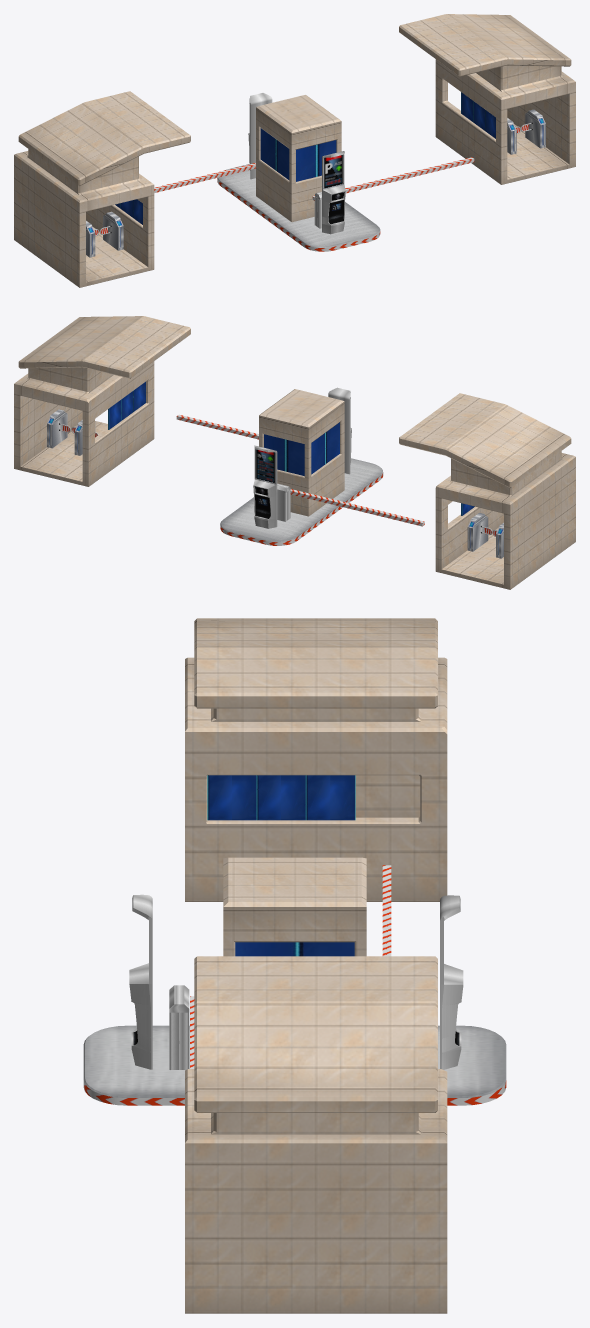
The model's file is barrier.obj.
3 views of the same model, one above another, from view 1: azimuth 30°, elevation 25°; view 2: azimuth 150°, elevation 25°; view 3: azimuth 270°, elevation 25° (orthographic). The views are drawn at different scales.
Parts seen in each view (by area): view 1: barrier_gate_in_3, barrier_gate_out_3, didaoczf002, waidq002; view 2: barrier_gate_in_3, barrier_gate_out_3, didaoczf002, waidq002; view 3: barrier_gate_in_3, barrier_gate_out_3, didaoczf002, waidq002.
Boxes of the visible parts, box(x1,y1,x2,y2) form: barrier_gate_in_3: box(256, 14, 575, 234); barrier_gate_out_3: box(14, 91, 272, 287); didaoczf002: box(217, 164, 380, 247); waidq002: box(217, 178, 380, 251); barrier_gate_in_3: box(14, 316, 351, 516); barrier_gate_out_3: box(253, 393, 575, 589); didaoczf002: box(220, 458, 383, 542); waidq002: box(220, 473, 383, 545); barrier_gate_in_3: box(129, 857, 447, 1313); barrier_gate_out_3: box(185, 618, 463, 1069); didaoczf002: box(83, 1025, 506, 1097); waidq002: box(83, 1080, 506, 1105).
Bounding box in the file's own units: 233 × 55.38 × 85.96.
Materials: 13 (13 with a texture image).
